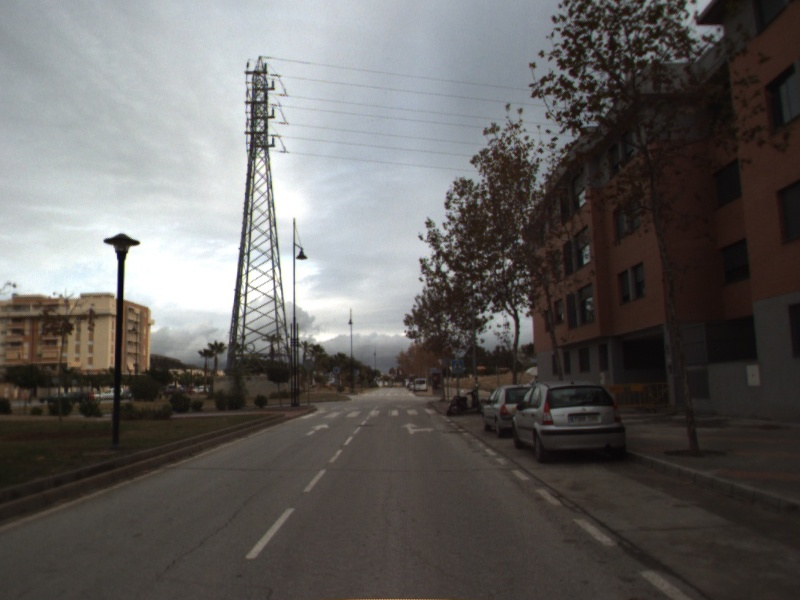STRAIGHT: (303, 421, 331, 438)
STRAIGHT_RIGHT: (399, 420, 437, 436)
